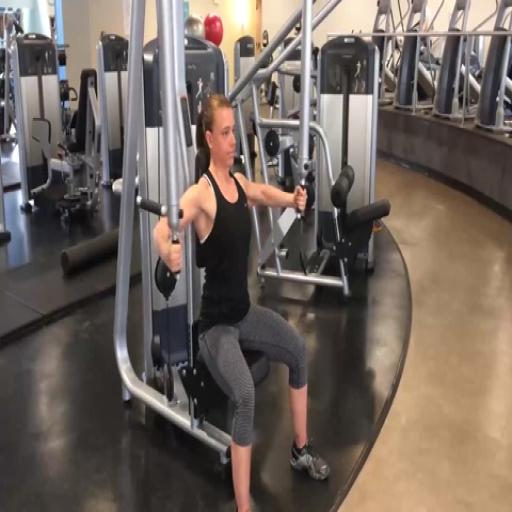exercise: (151, 91, 333, 511)
